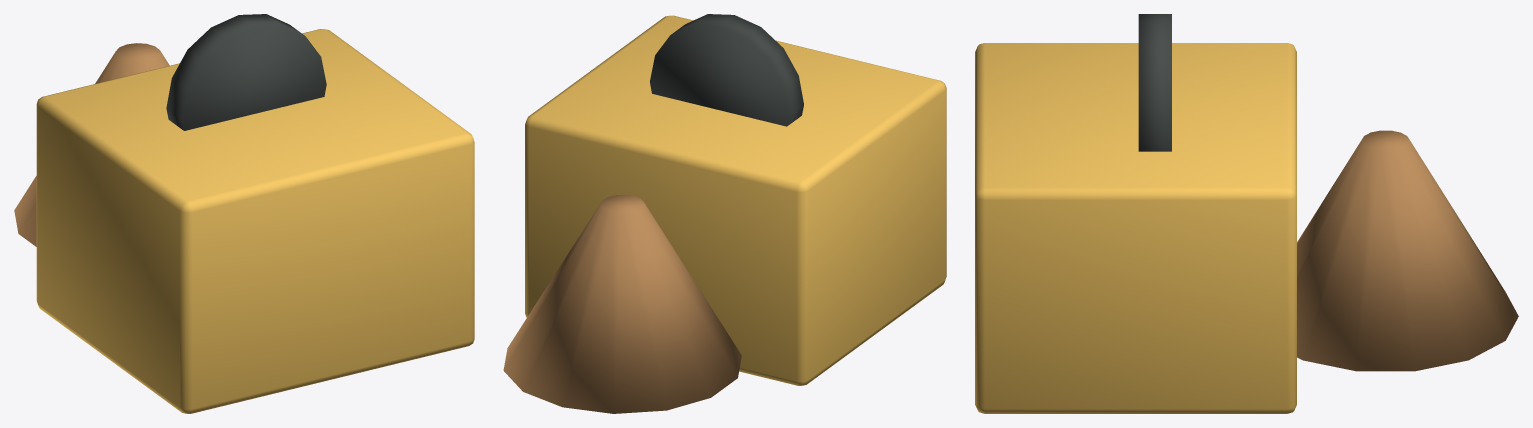
The model's file is equipment_flour_mill.glb.
3 renders of one model, left to right at view 1: azimuth 30°, elevation 25°; view 2: azimuth 150°, elevation 25°; view 3: azimuth 270°, elevation 25°, orthographic. The views are drawn at different scales.
Visible parts, largest first — view 1: Mill, Wheel, Hopper; view 2: Mill, Hopper, Wheel; view 3: Mill, Hopper, Wheel.
Part boxes in pixels (x1,y1,x2,y2): Mill: [36, 29, 474, 413]; Wheel: [166, 14, 326, 130]; Hopper: [14, 43, 169, 246]; Mill: [525, 15, 946, 385]; Hopper: [503, 194, 741, 413]; Wheel: [650, 14, 803, 126]; Mill: [975, 43, 1296, 413]; Hopper: [1297, 130, 1518, 371]; Wheel: [1138, 14, 1171, 151].
Bounding box in the file's own units: 1.3 × 1.27 × 1.96.
